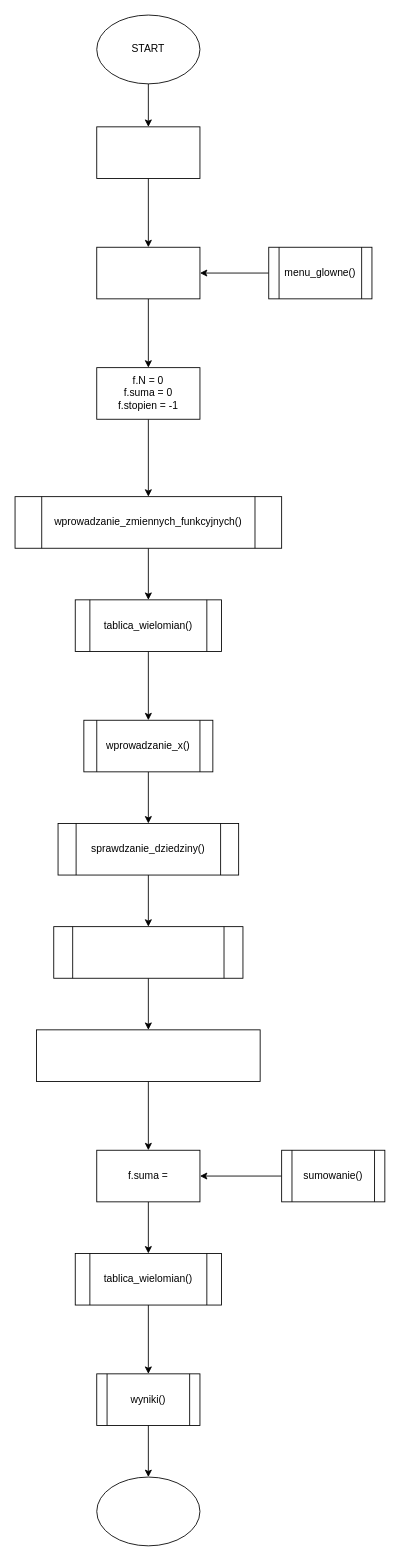
Image size: 400x1561. Some labels were removed from this diagram. The centre of each missing label's shape, as x and y in pixels:
"f.dx = (f.x_koncowe - f.x_poczatkowe) / f.N;" belongs at pixel 148 1055.
"int w =" belongs at pixel 148 272.
"Polskie znaki" belongs at pixel 148 152.
"STOP" belongs at pixel 148 1511.
"wpisanie_do_pliku_wzoru()" belongs at pixel 148 952.
